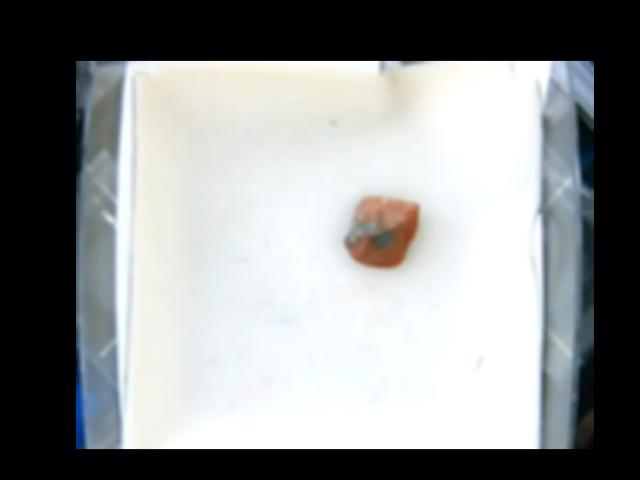Brisk: (343, 192, 417, 267)
